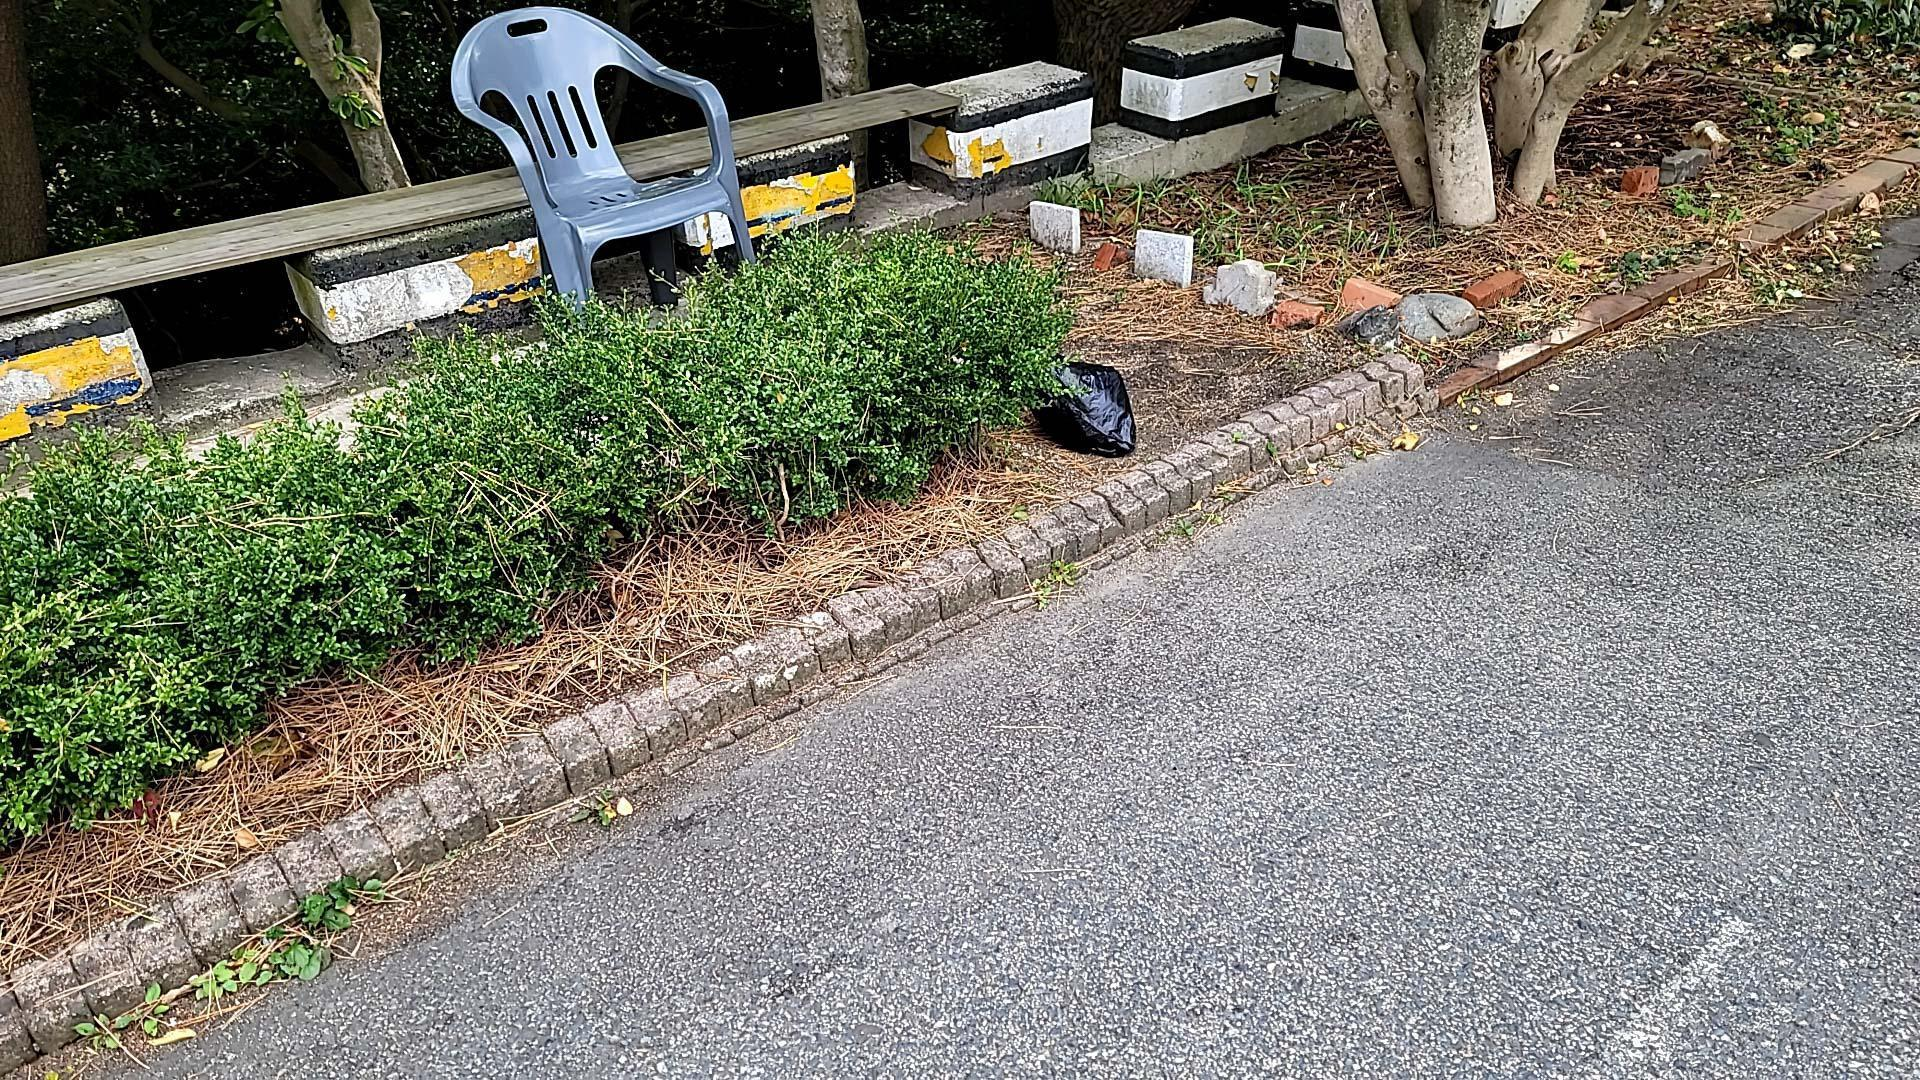black_bag: (1021, 347, 1139, 462)
